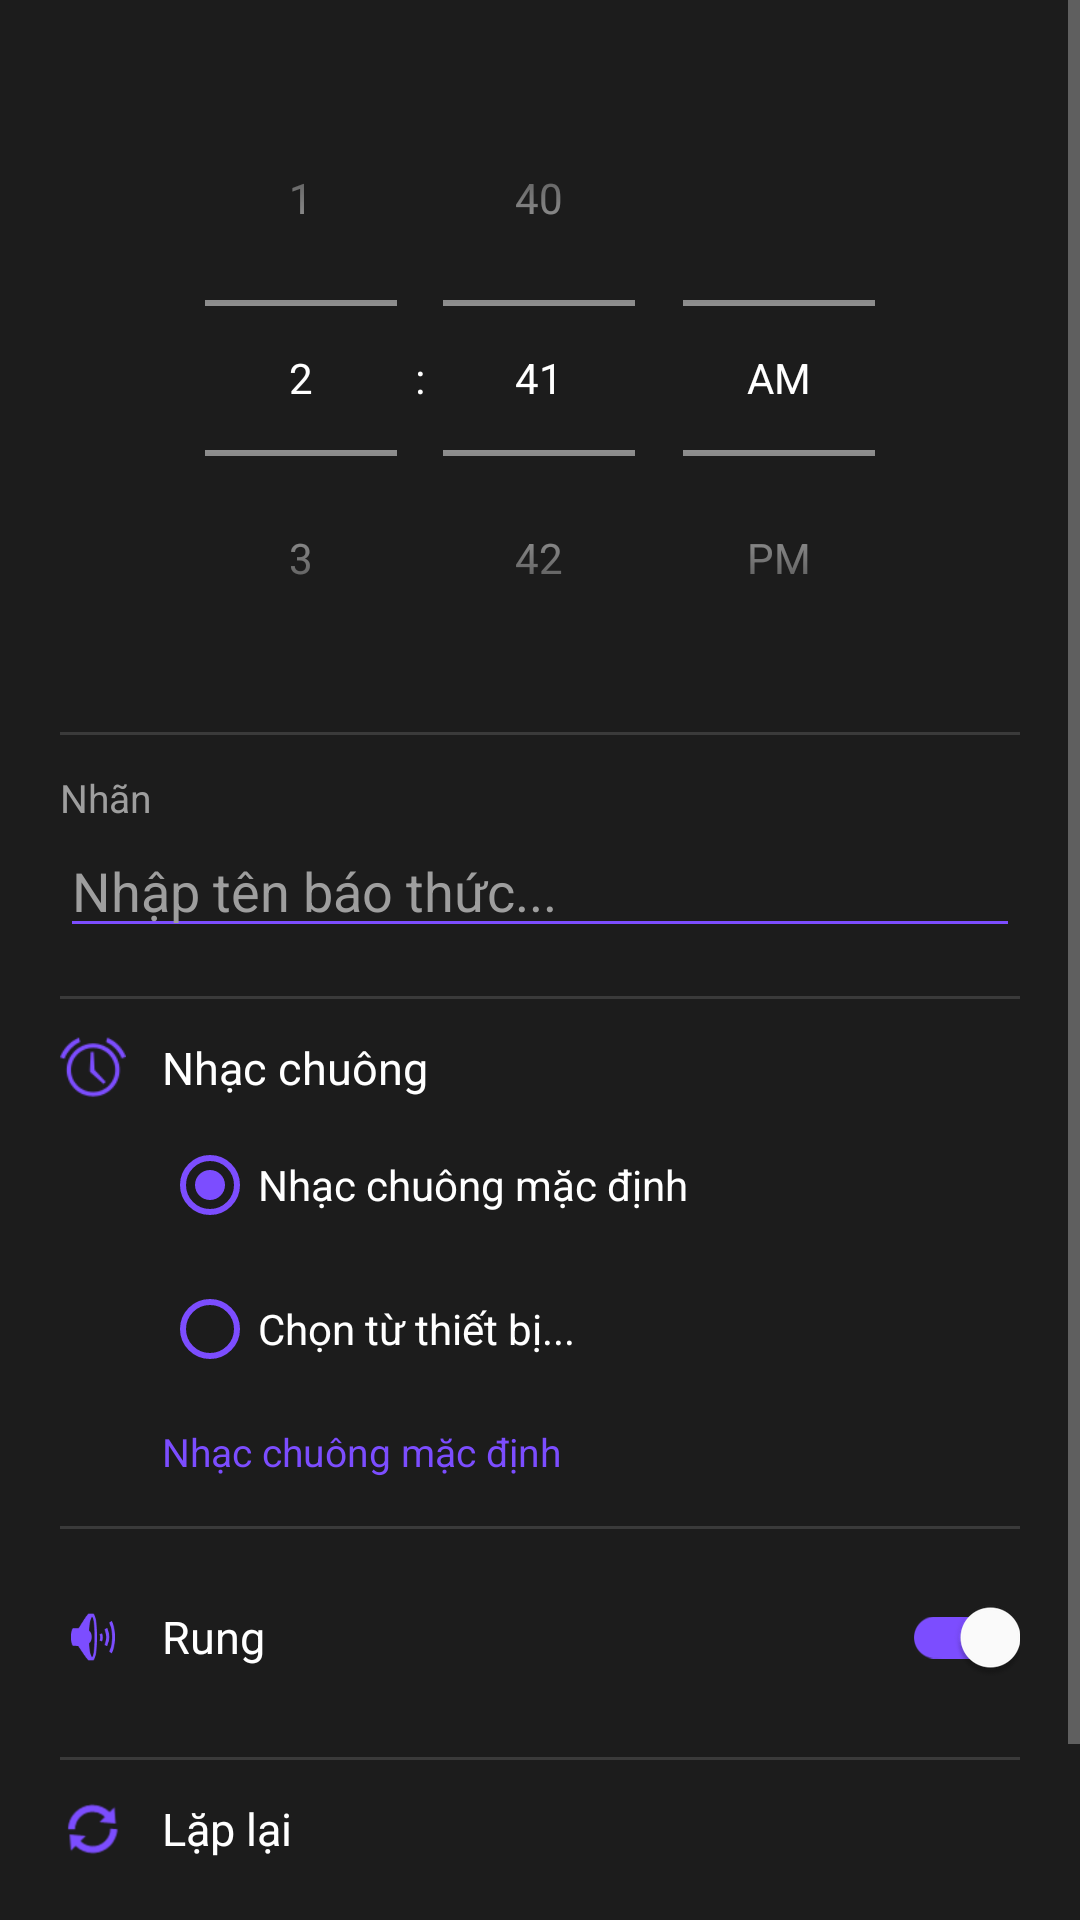

Screen size 1080x1920. Icon name, then its center in pixels as (x=x, y=y):
lock idle alarm: (x=93, y=1067)
lock silent mode off: (x=93, y=1637)
popup sync: (x=93, y=1829)
